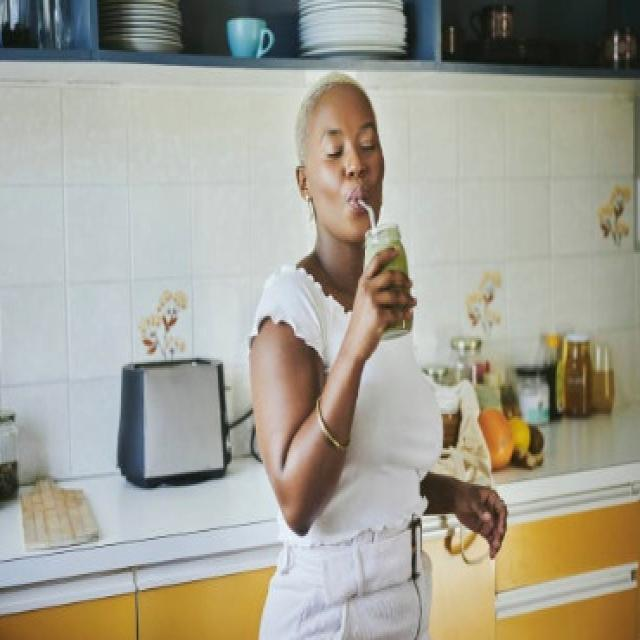adult: (244, 67, 501, 640)
